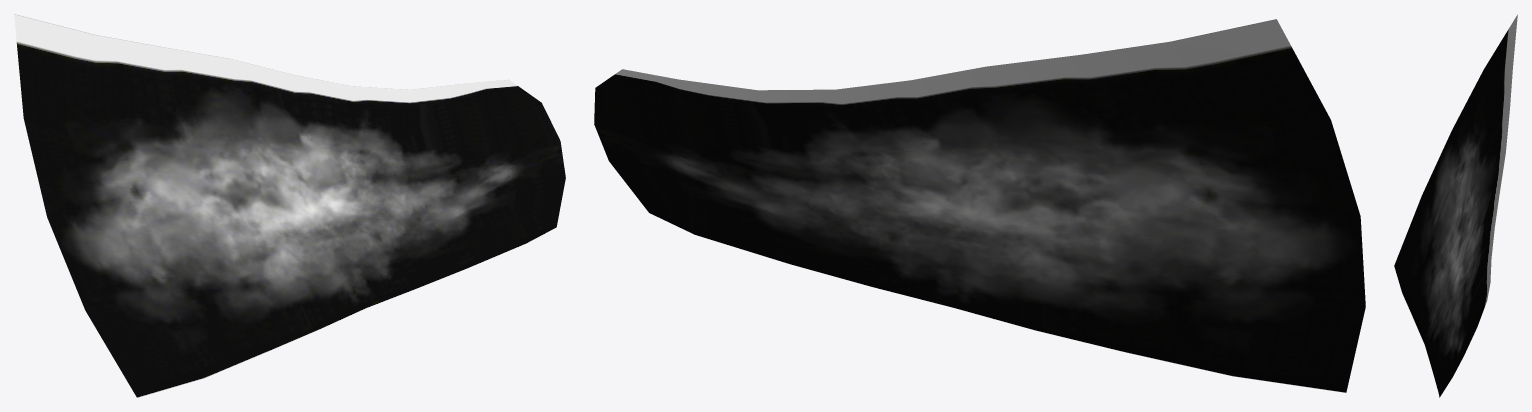
Rendered from effect_scene_smoke #46160302.fbx.
3 renders of one model, left to right at view 1: azimuth 30°, elevation 25°; view 2: azimuth 150°, elevation 25°; view 3: azimuth 270°, elevation 25°, orthographic. The views are drawn at different scales.
Visible parts, largest first — view 1: effect_scene_smoke_plane_001_0; view 2: effect_scene_smoke_plane_001_0; view 3: effect_scene_smoke_plane_001_0.
Boxes of the visible parts, left/top/right/bottom form: effect_scene_smoke_plane_001_0: left=14, top=14, right=565, bottom=397; effect_scene_smoke_plane_001_0: left=594, top=19, right=1365, bottom=392; effect_scene_smoke_plane_001_0: left=1394, top=14, right=1517, bottom=397.
Size of the model in its own units: 36.18 by 21.98 by 10.25.
